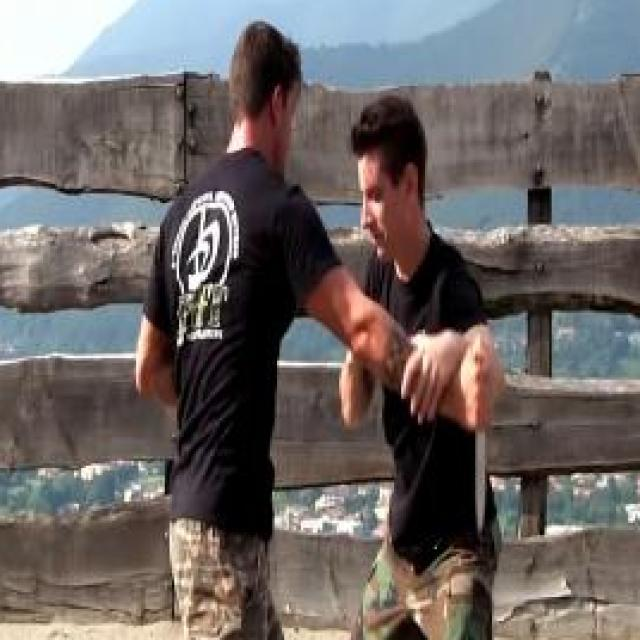knife: (466, 334, 496, 536)
